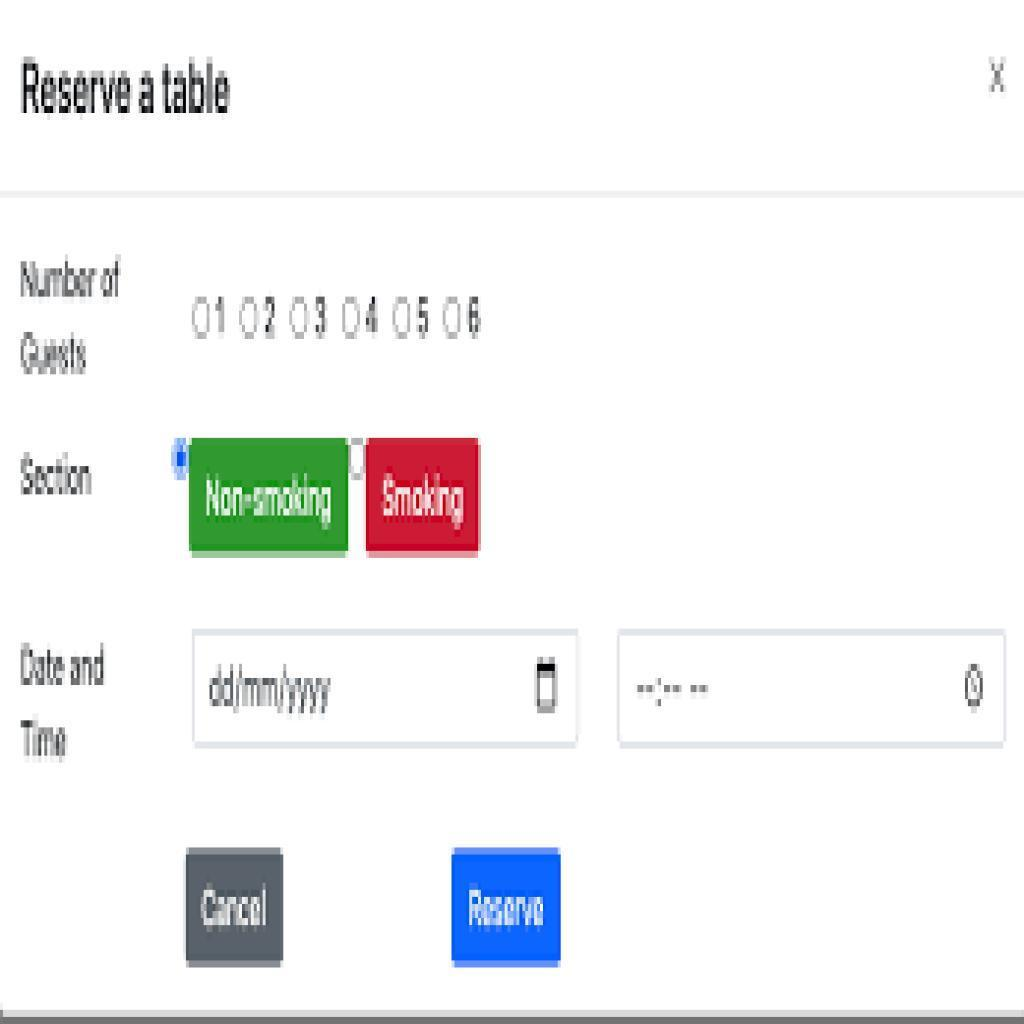button: (454, 851, 565, 968), (185, 849, 286, 966)
input: (189, 629, 574, 739), (624, 634, 1006, 744)
radio: (390, 285, 418, 354), (238, 285, 264, 347), (439, 285, 464, 349), (287, 288, 314, 345), (339, 289, 367, 341), (192, 291, 213, 354), (344, 438, 373, 477), (171, 437, 192, 479)
